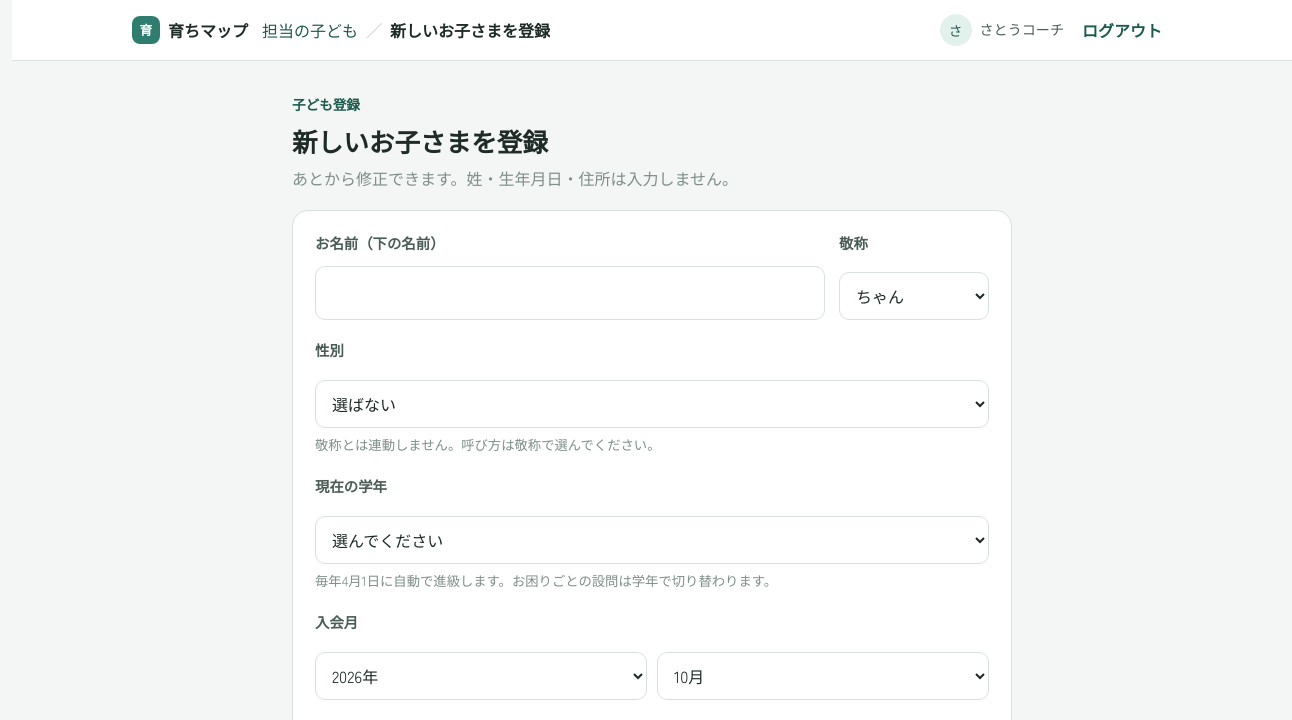
お子さま登録 › 目標を求めず登録し、完了画面を挟まず子ども一覧へ戻る
Type "ゆい" into the field labelled "お名前（下の名前）" at (570, 293), box x1=315 y1=266 x2=825 y2=320
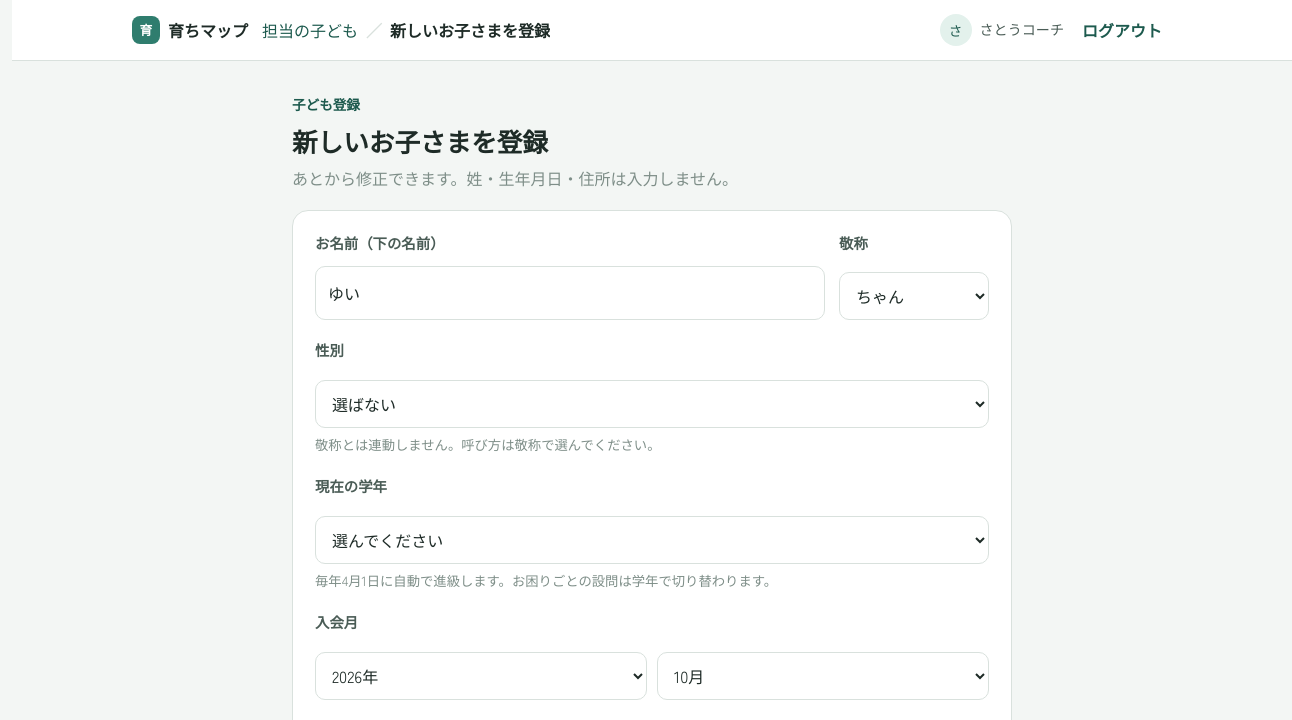
Select "小学1年生（6〜7歳）" in the dropdown labelled "現在の学年" at (652, 540), box x1=315 y1=516 x2=989 y2=564
(page scrolled)
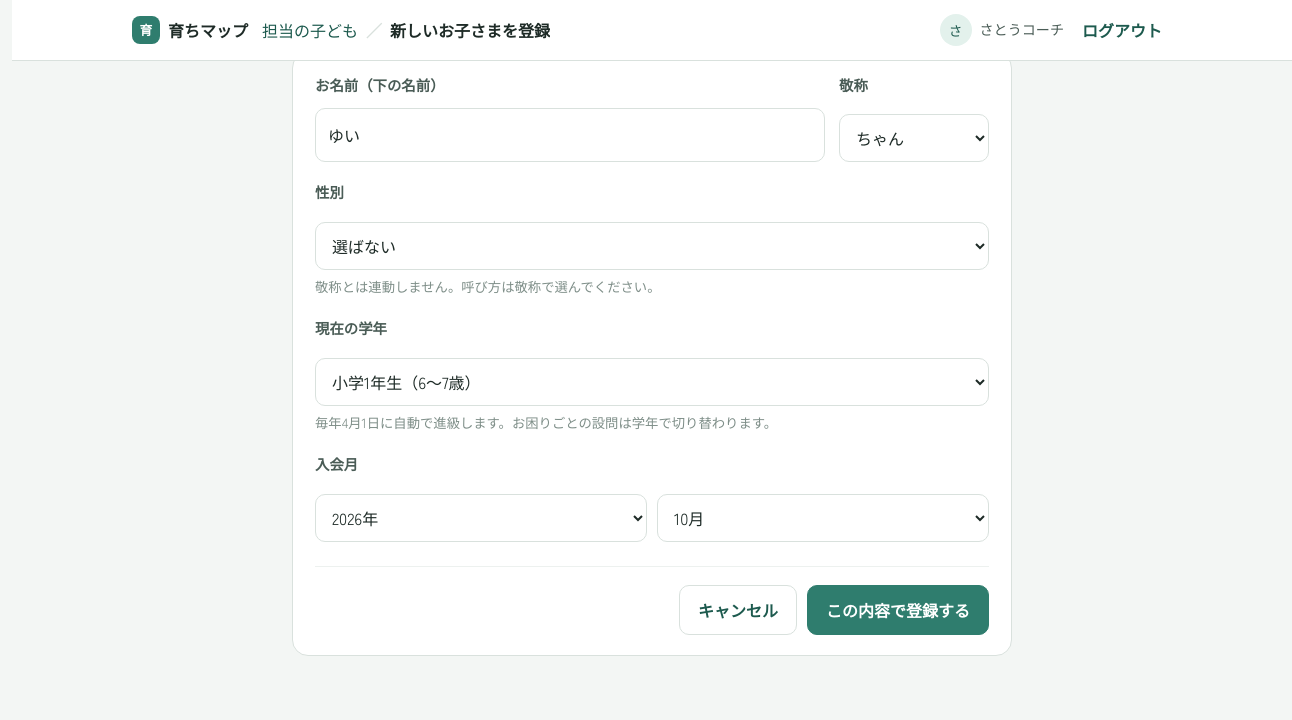
Click the button "この内容で登録する" at (898, 610), box x1=807 y1=585 x2=989 y2=635
(page scrolled)
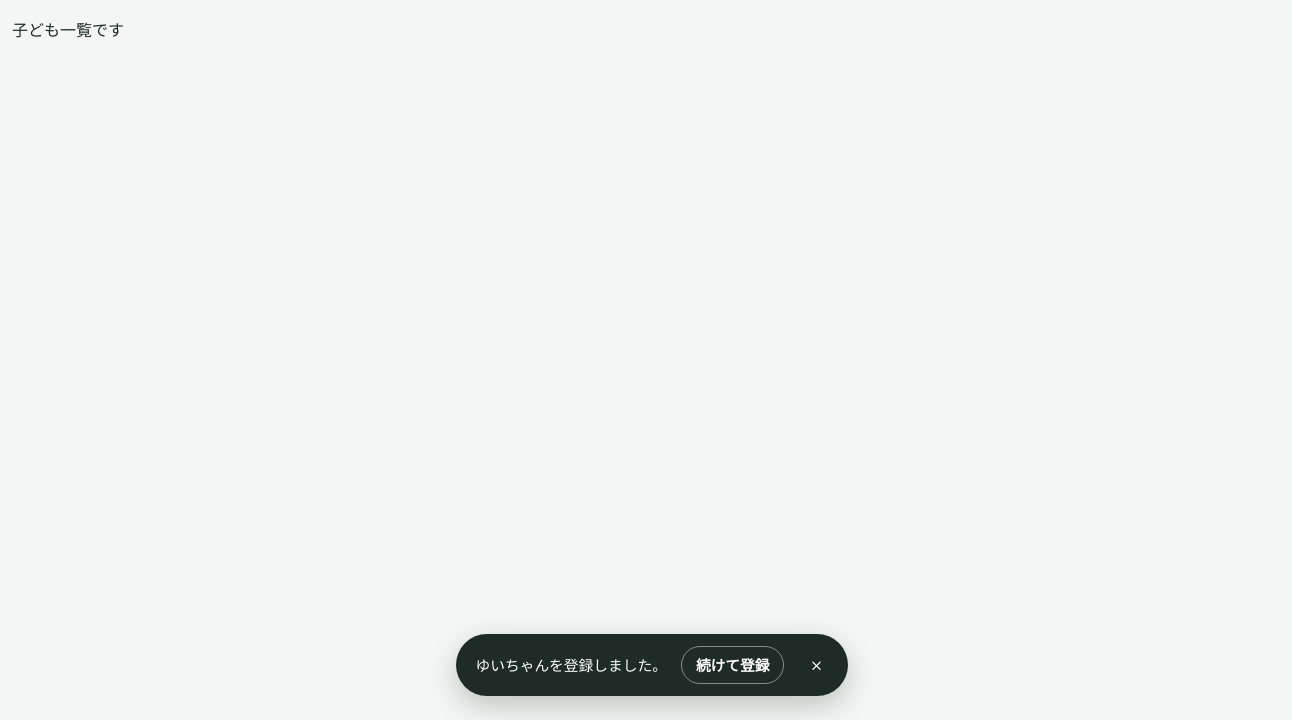
Result: the text "子ども一覧です" is shown at x1=12 y1=17 x2=124 y2=41
Result: the message shows "ゆいちゃんを登録しました" at x1=476 y1=654 x2=667 y2=675
